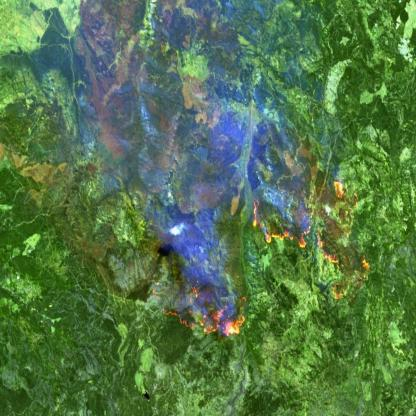fire: (253, 155, 374, 308), (149, 288, 248, 353)
